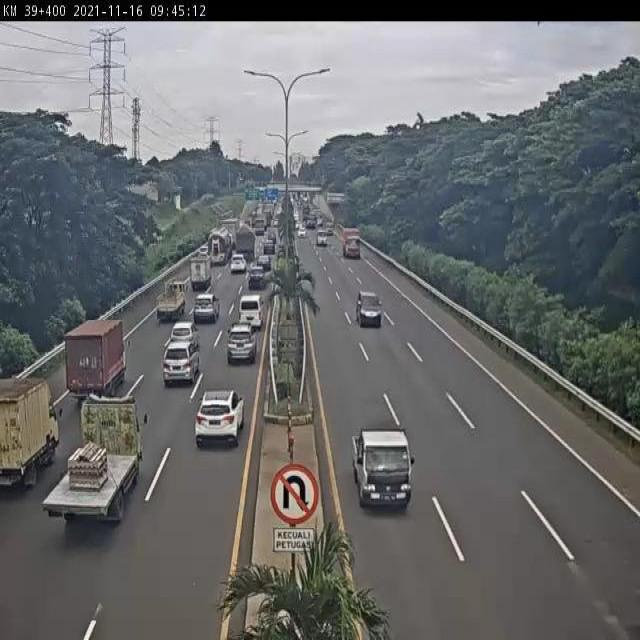car: (350, 428, 412, 511), (194, 388, 243, 444), (162, 342, 201, 387), (223, 331, 255, 373), (357, 290, 382, 326), (189, 295, 216, 328), (168, 323, 193, 348), (247, 268, 268, 293), (227, 256, 246, 276)
small bus: (236, 299, 262, 332)
small truck: (0, 379, 60, 485), (150, 284, 180, 331), (187, 260, 209, 293)
truck-m-: (42, 396, 139, 527), (66, 323, 129, 396)
